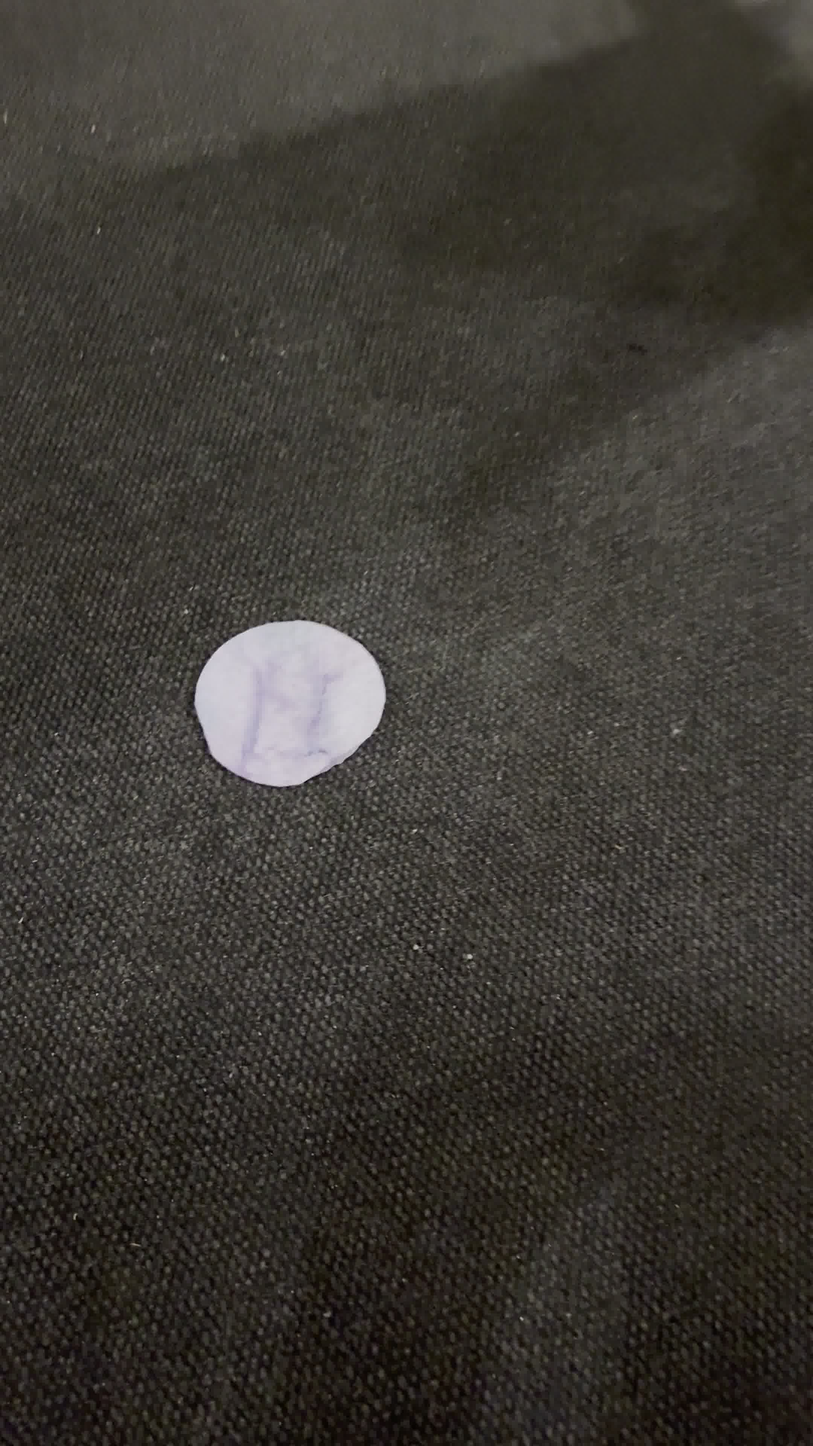Target: (192, 615, 388, 790)
